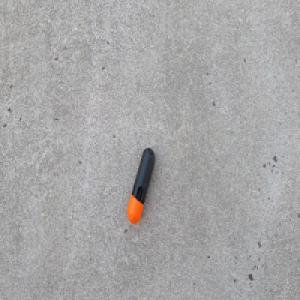PlasticPart: (126, 145, 155, 225)
